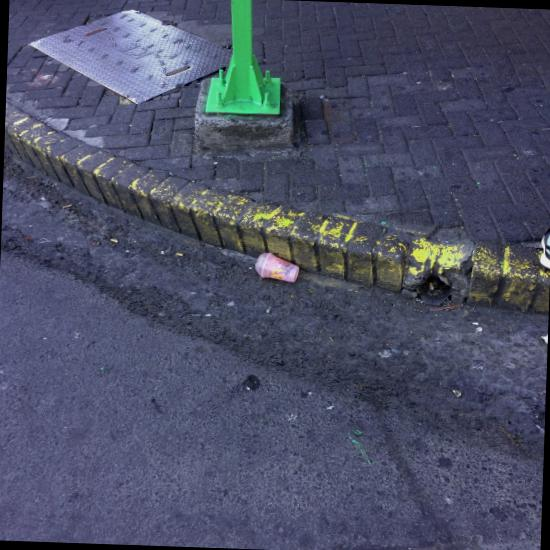Cigarette: (429, 282, 434, 290), (63, 204, 72, 208), (110, 238, 118, 242), (176, 252, 183, 256)
Disposable plastic cup: (255, 252, 299, 282)
Plastic lid: (255, 252, 271, 277)
